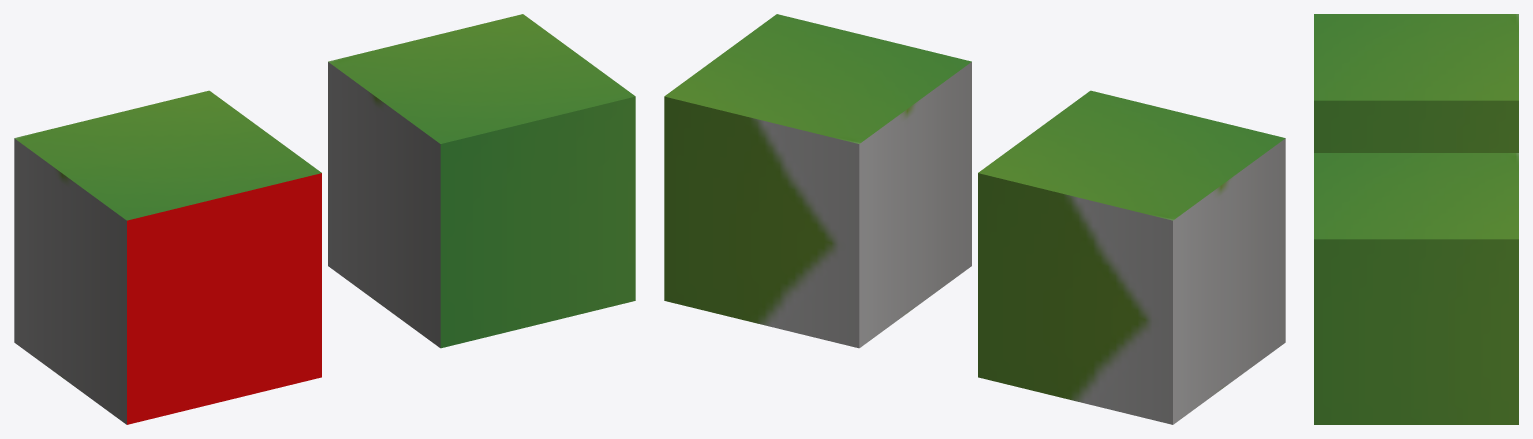
Rendered from Cube_004贴图加纯色.fbx.
3 views of the same model, side by side, from view 1: azimuth 30°, elevation 25°; view 2: azimuth 150°, elevation 25°; view 3: azimuth 270°, elevation 25° (orthographic). The views are drawn at different scales.
Parts seen in each view (by area): view 1: Cube.003, Cube.005; view 2: Cube.003, Cube.005; view 3: Cube.003, Cube.005.
Part boxes in pixels (x1,y1,x2,y2): Cube.003: [328, 14, 635, 348]; Cube.005: [14, 90, 321, 424]; Cube.003: [664, 14, 971, 348]; Cube.005: [978, 90, 1285, 424]; Cube.003: [1314, 153, 1518, 424]; Cube.005: [1314, 14, 1518, 152].
Bounding box in the file's own units: 521 × 200 × 200.
Materials: 2 (1 with a texture image).
